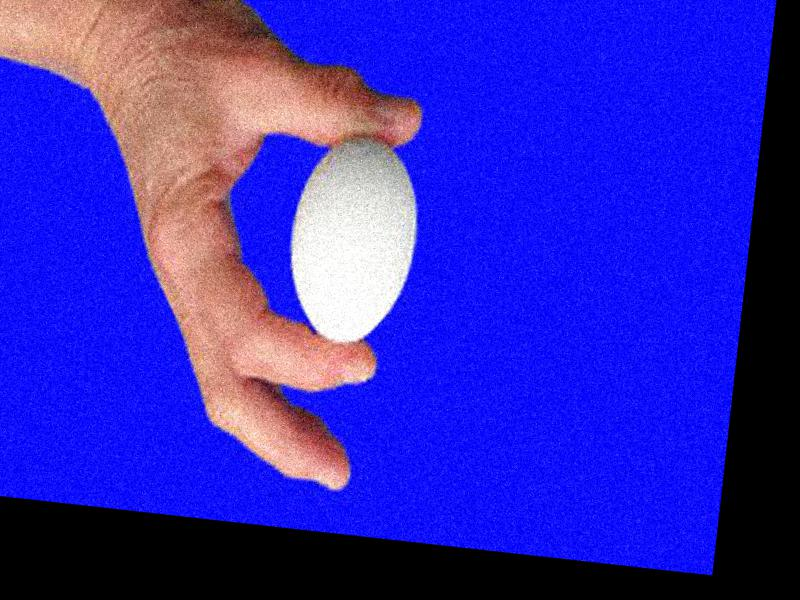Eggs: (280, 130, 425, 353)
